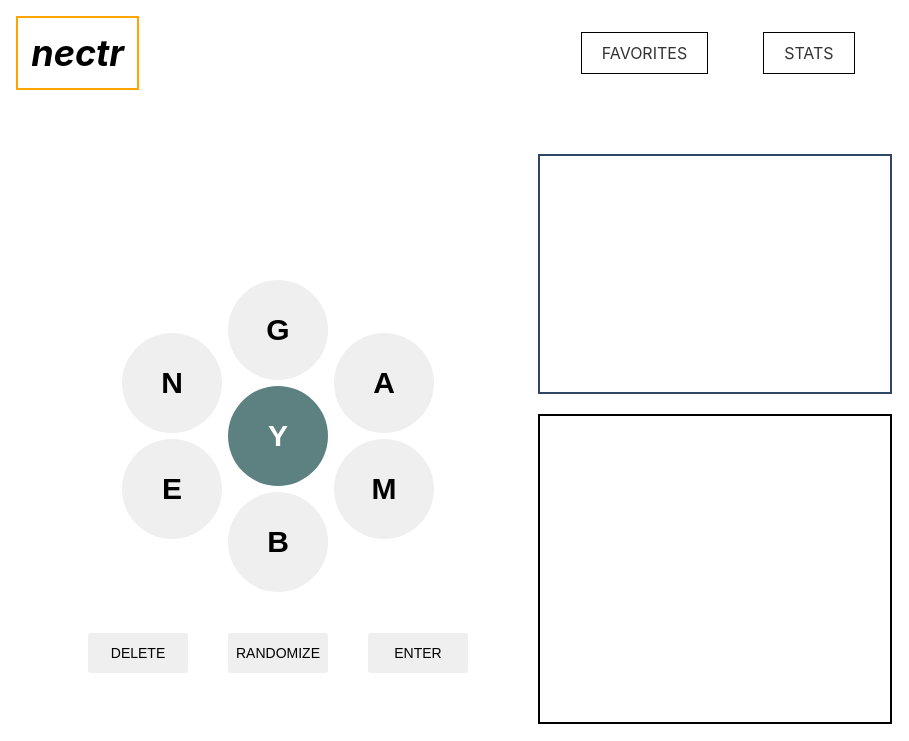
Favorites View › Should default to an error message before you favorite a word
Click the link "FAVORITES" at (645, 53), box [581,32,709,74]
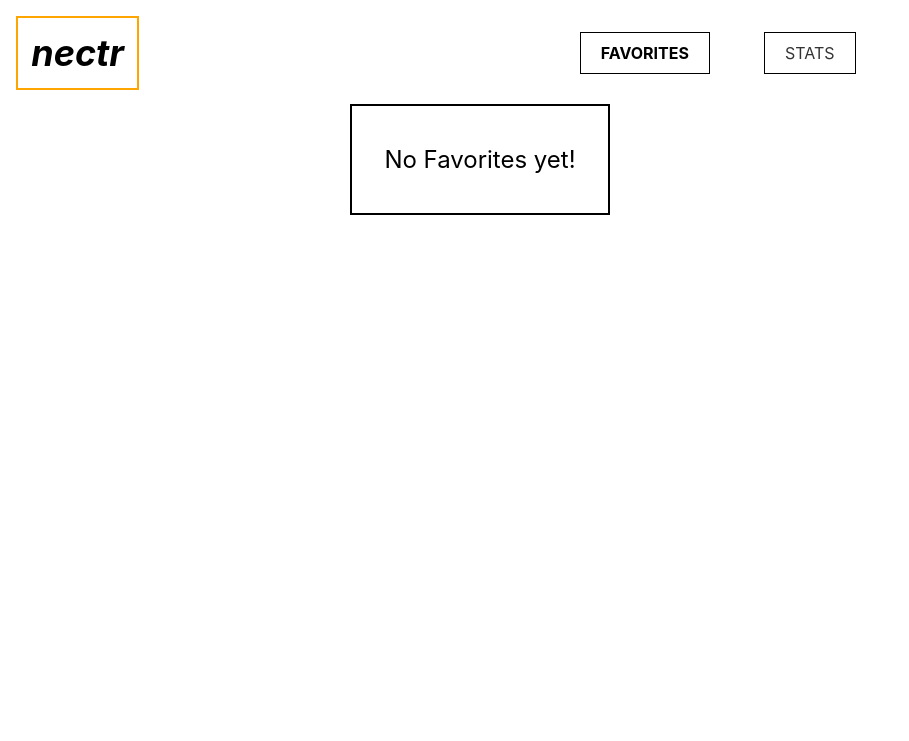
Check: the text "No Favorites yet!" is shown, box [384,145,576,174]
